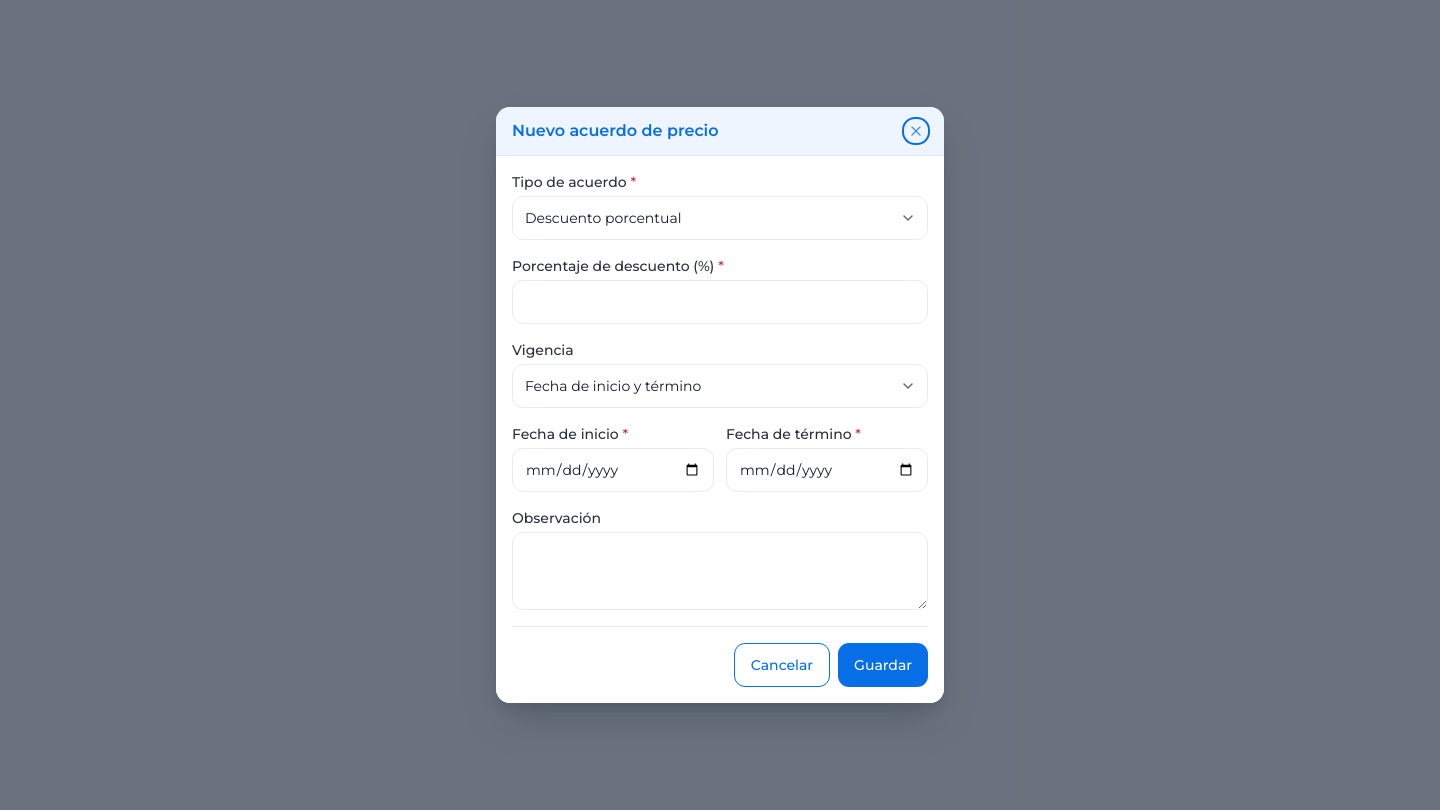
Test case: FormularioAcuerdo — 409 ACUERDO_TRASLAPADO › muestra el detail del conflicto en vez de un error genérico
Type "10" into the field labelled "Porcentaje de descuento (%) *" at (720, 302), box [512,280,928,324]
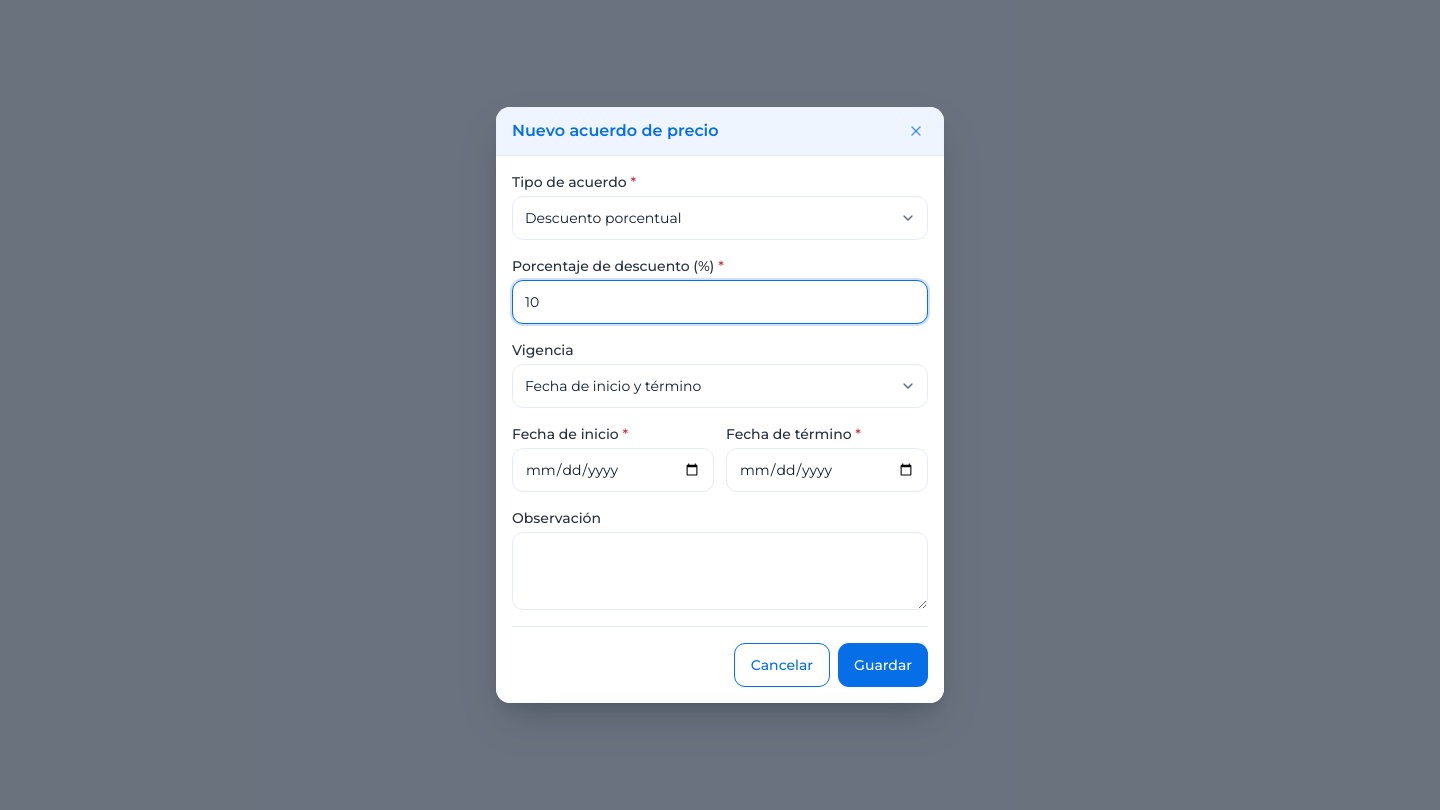
Type "2026-01-01" into the date field labelled "Fecha de inicio *" at (613, 470), box [512,448,714,492]
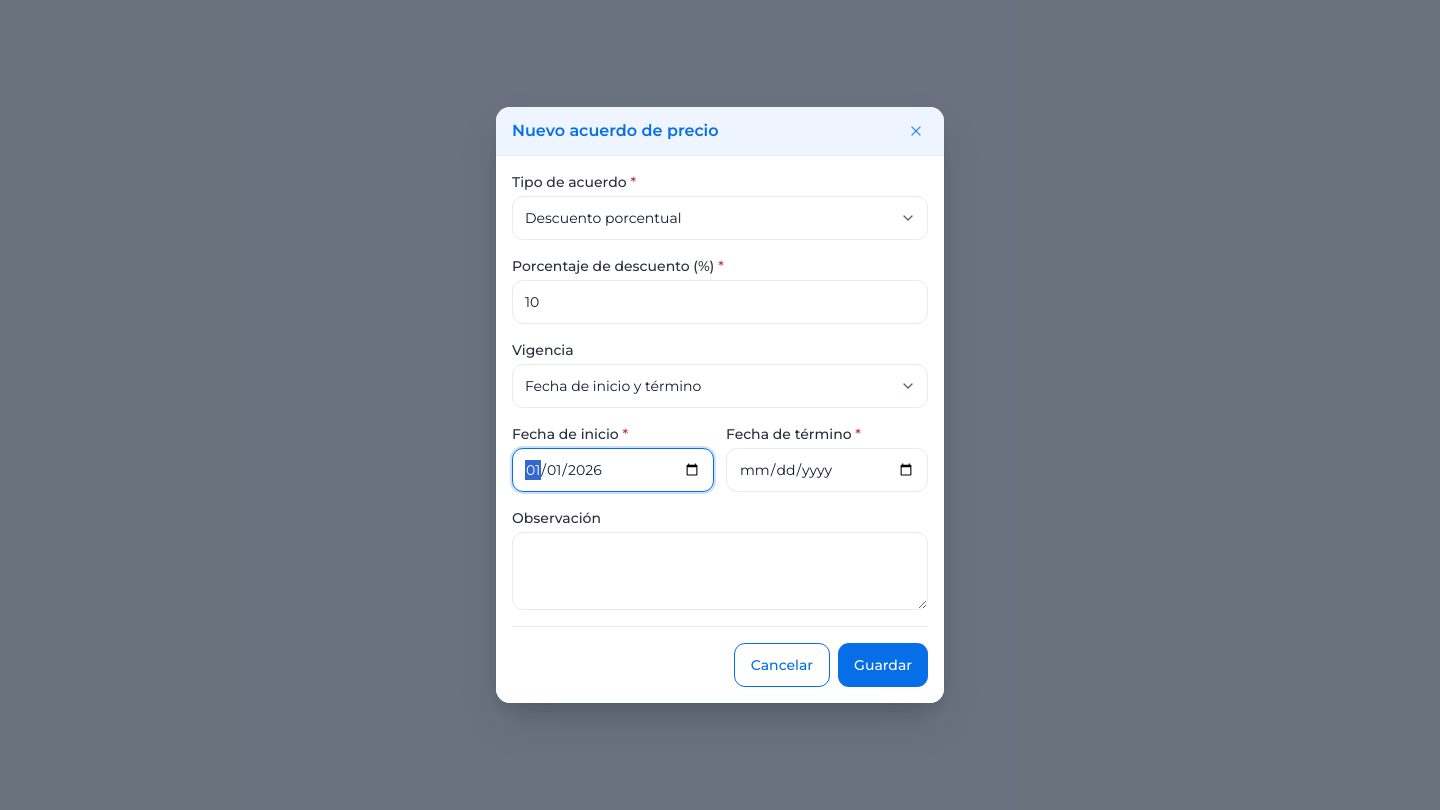
Type "2026-12-31" into the date field labelled "Fecha de término *" at (827, 470), box [726,448,928,492]
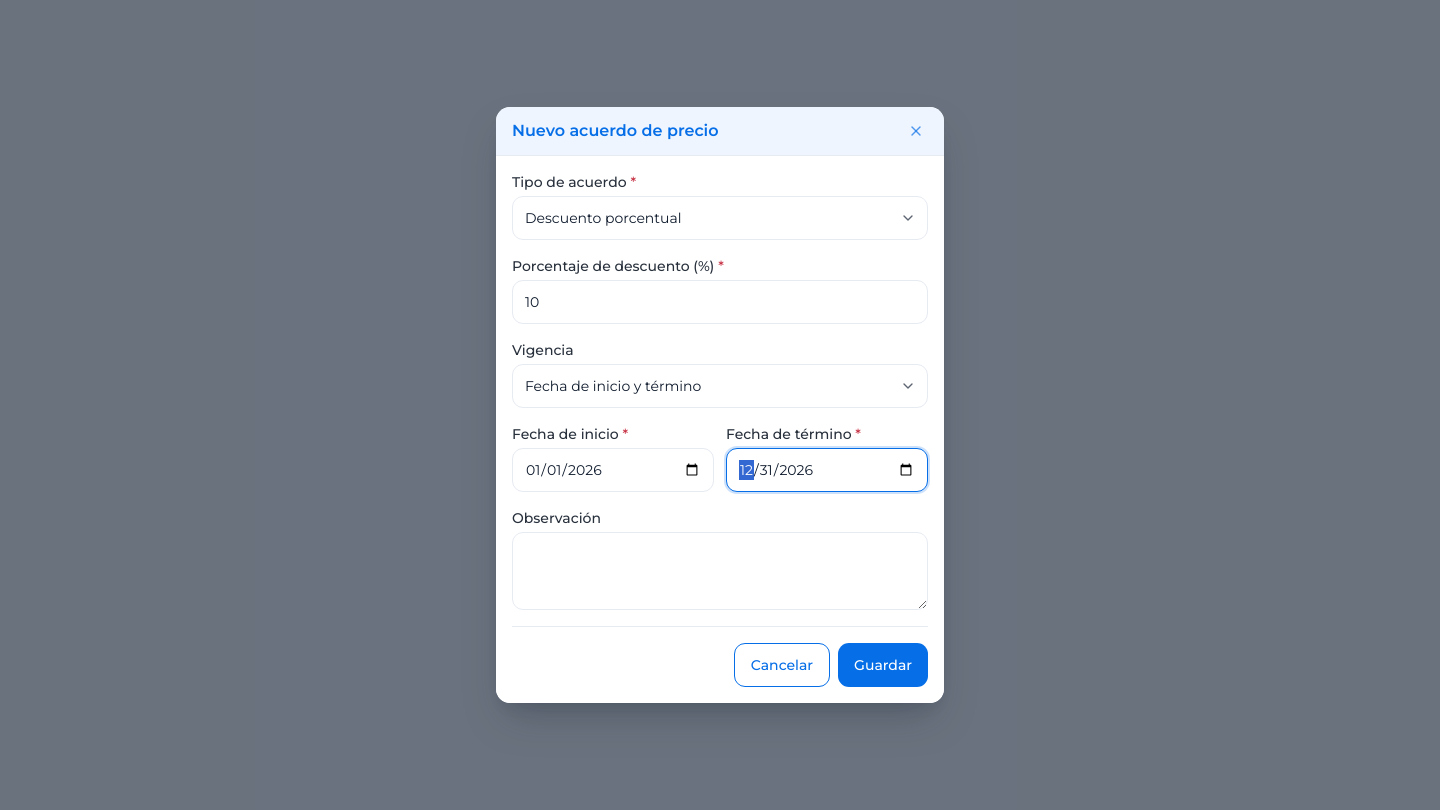
Click the button "Guardar" at (883, 665), box [838,643,928,687]
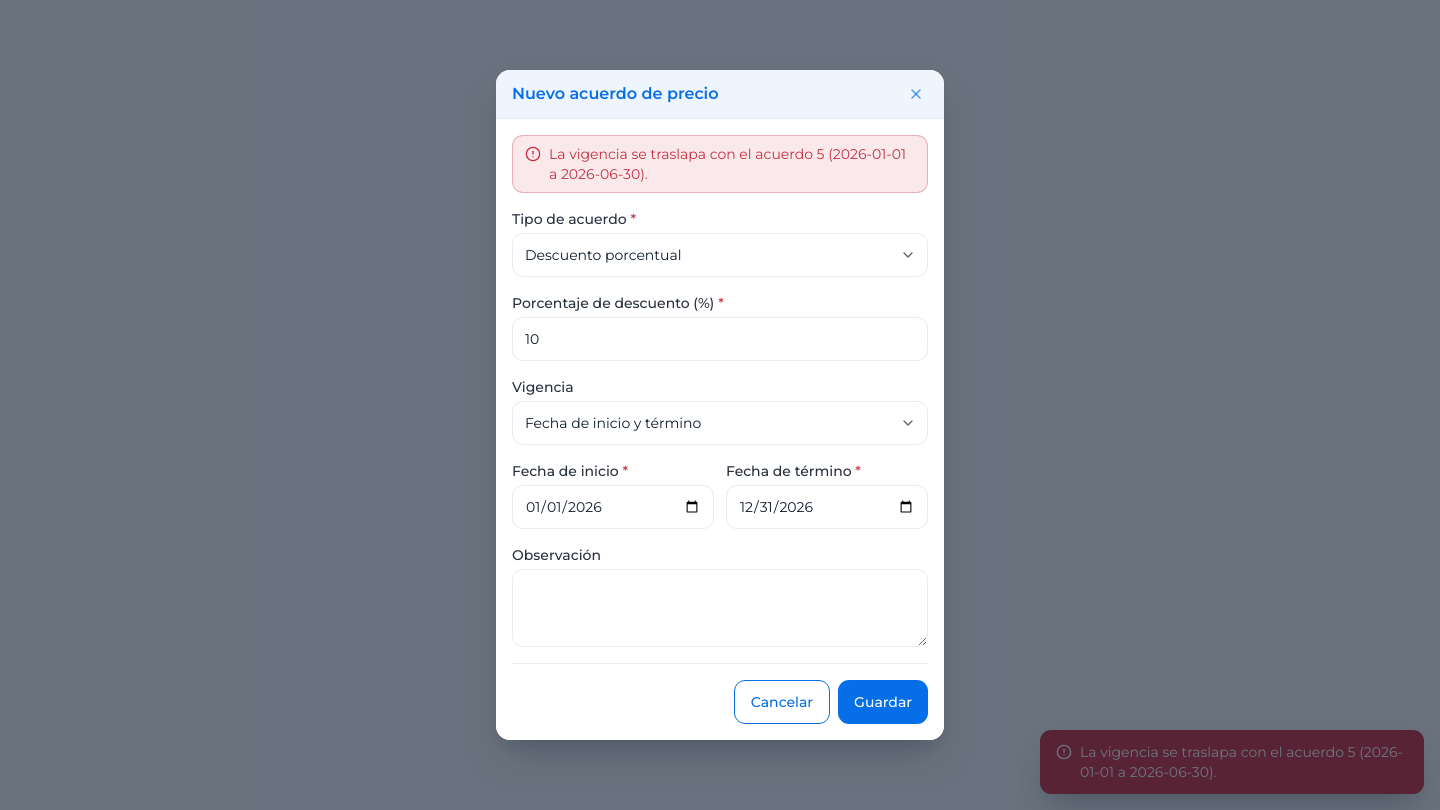
Check: the text "La vigencia se traslapa con el acuerdo 5 (2026-01-01 a 2026-06-30)." is shown, box [549,144,915,184]
